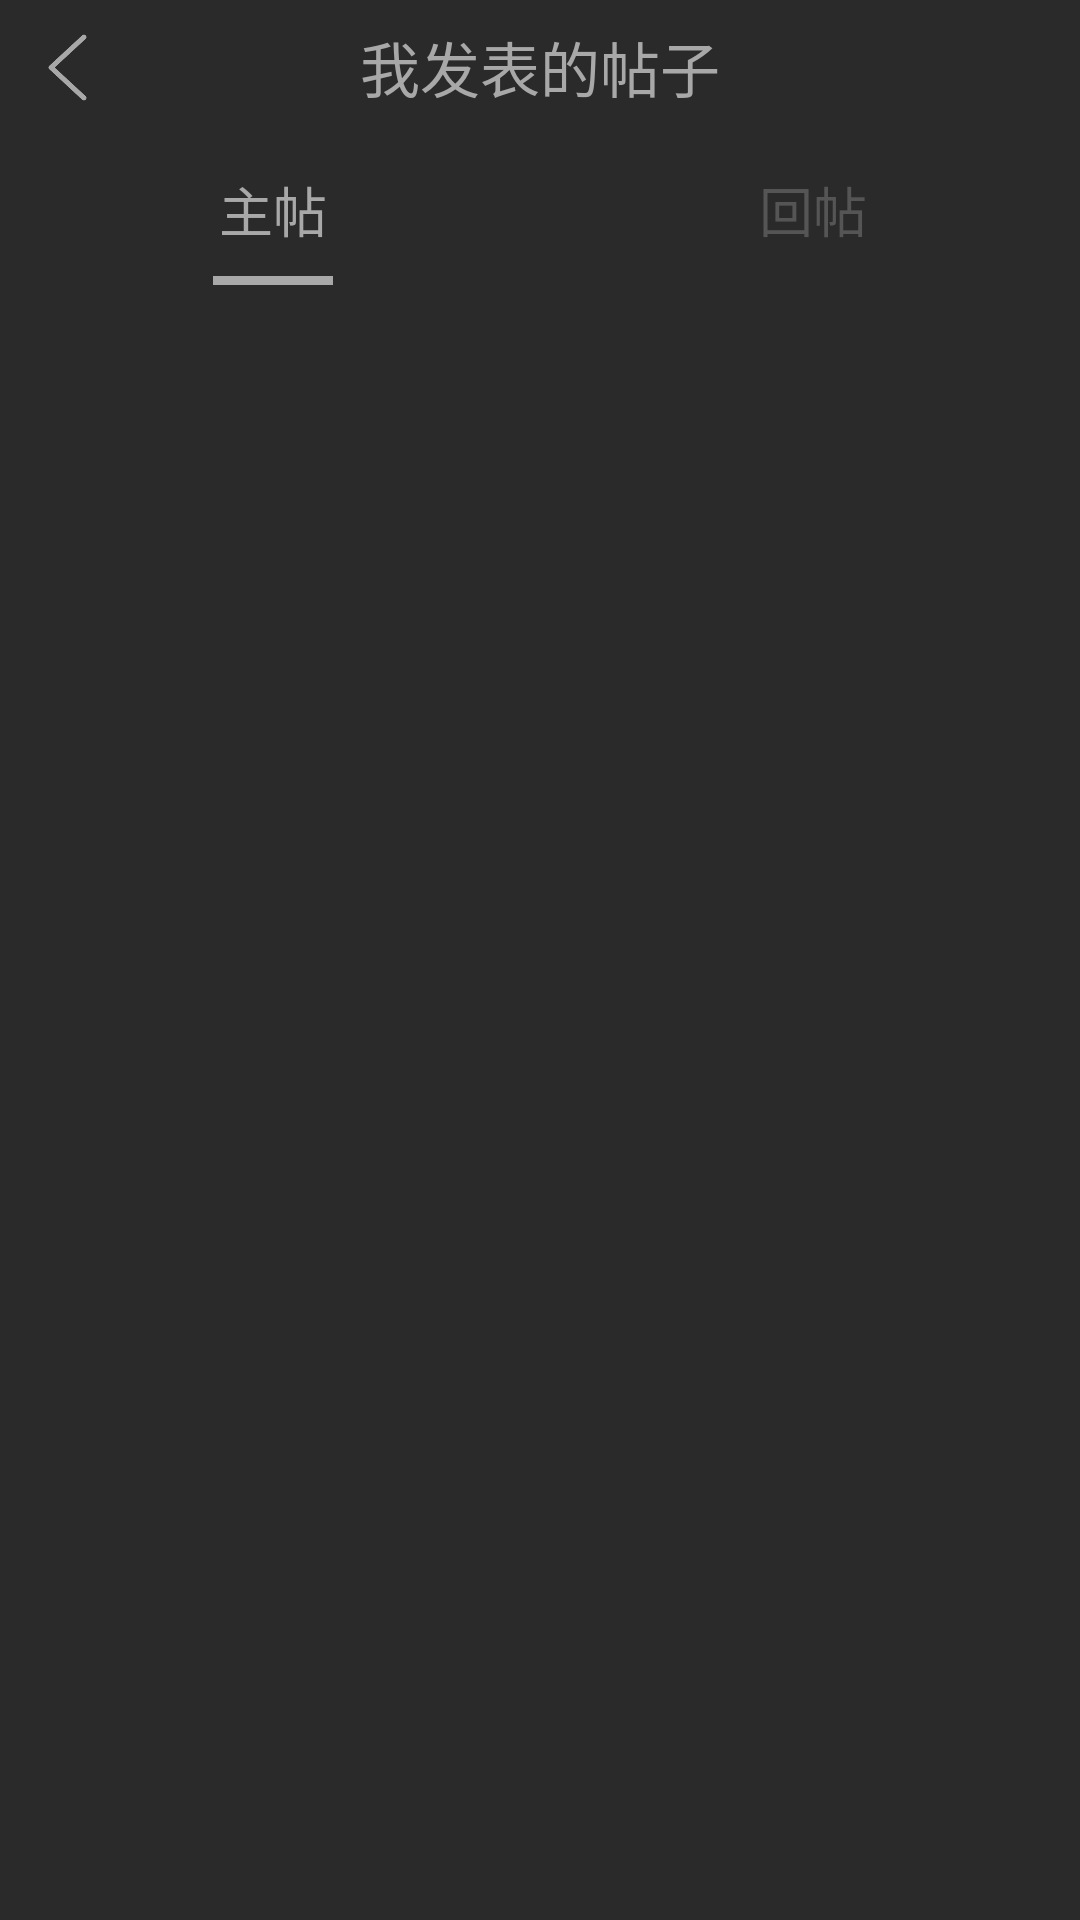

Icon click points for this 1080 x 1920 phone screenshot, format (x=x, y=y):
ba home return: (x=67, y=67)
